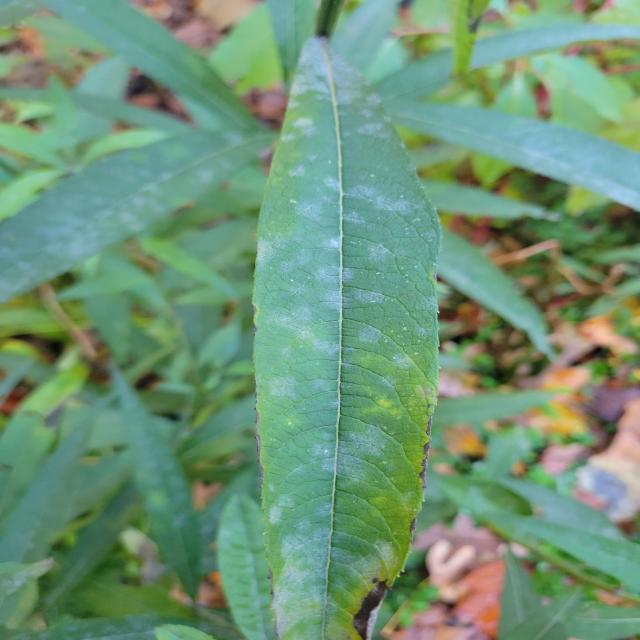powdery_mildew: (253, 38, 440, 640)
